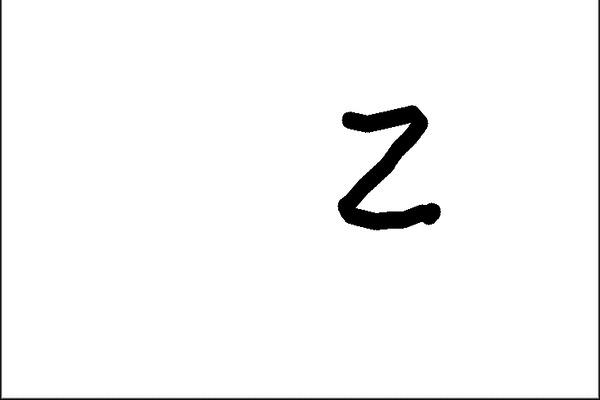Z: (323, 97, 453, 233)
